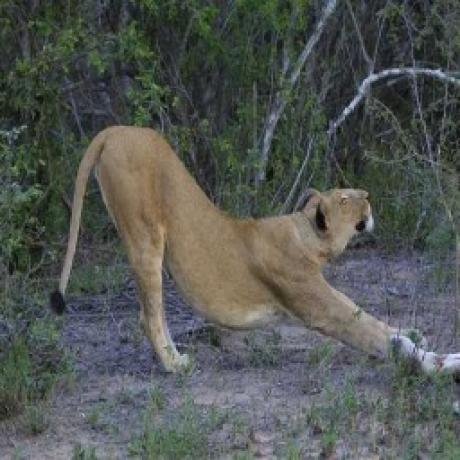Lion: (50, 122, 460, 379)
